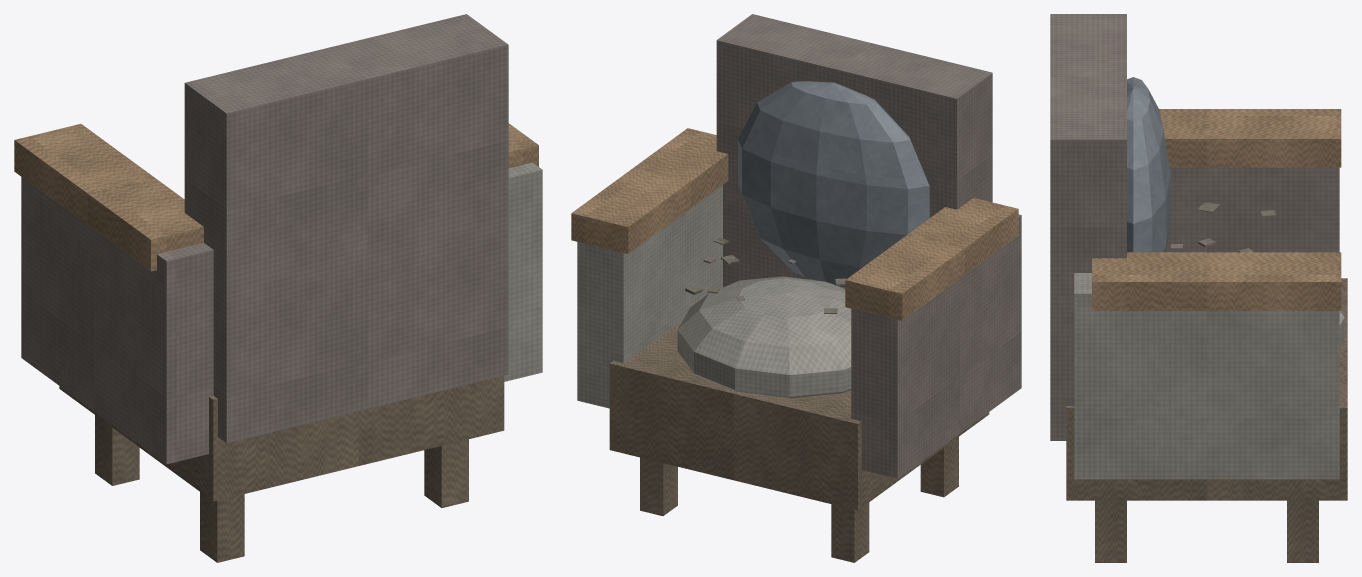
File: battered_armchair.glb
3 views of the same model, side by side, from view 1: azimuth 30°, elevation 25°; view 2: azimuth 150°, elevation 25°; view 3: azimuth 270°, elevation 25° (orthographic). The views are drawn at different scales.
Visible parts, largest first — view 1: InteriorPropGeometry; view 2: InteriorPropGeometry; view 3: InteriorPropGeometry.
Part boxes in pixels (x1=…): InteriorPropGeometry: x1=14, y1=14, x2=542, y2=562; InteriorPropGeometry: x1=571, y1=14, x2=1021, y2=562; InteriorPropGeometry: x1=1050, y1=14, x2=1347, y2=562.
Bounding box in the file's own units: 1.28 × 1.49 × 0.93.
Materials: 6 (6 with a texture image).
